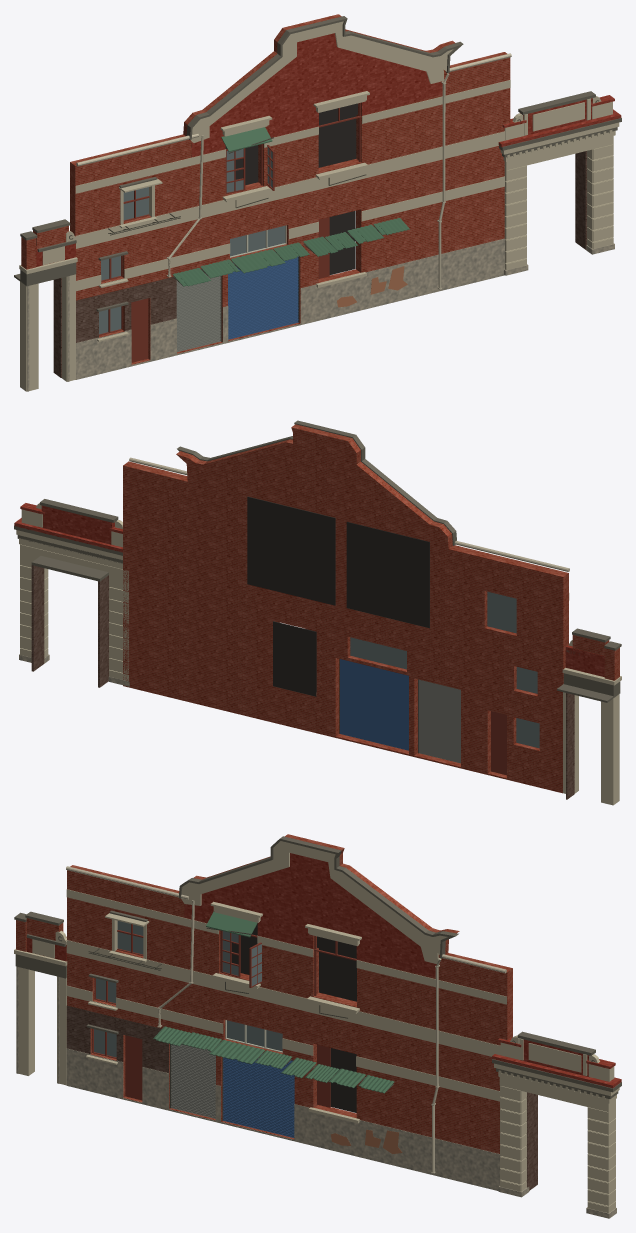
File: 314-street-near.glb
3 renders of one model, top to bottom at view 1: azimuth 30°, elevation 25°; view 2: azimuth 150°, elevation 25°; view 3: azimuth 330°, elevation 25°, orthographic.
Parts seen in each view (by area): view 1: 颐庆里住宅，景星路街面; view 2: 颐庆里住宅，景星路街面; view 3: 颐庆里住宅，景星路街面.
Part boxes in pixels (left/top/right/bottom): 颐庆里住宅，景星路街面: left=14, top=14, right=621, bottom=391; 颐庆里住宅，景星路街面: left=14, top=420, right=621, bottom=805; 颐庆里住宅，景星路街面: left=14, top=834, right=621, bottom=1218.
Bounding box in the file's own units: 26.05 × 12.46 × 2.28.
16 materials, 4 textured.
